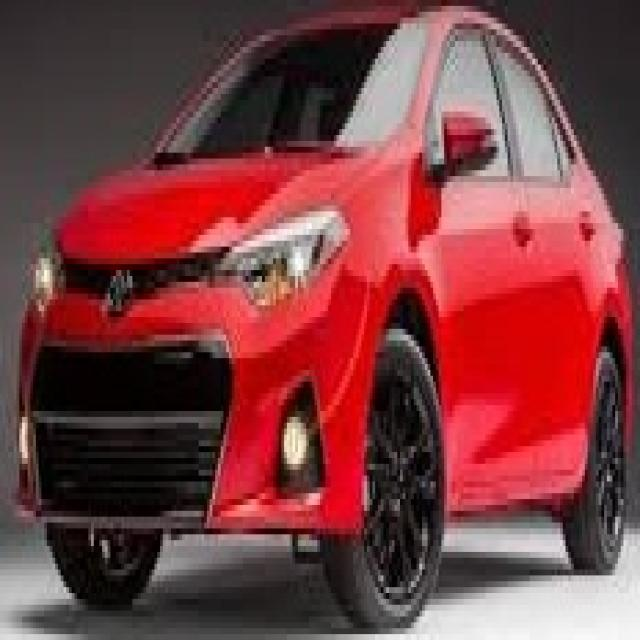red: (18, 8, 640, 580)
